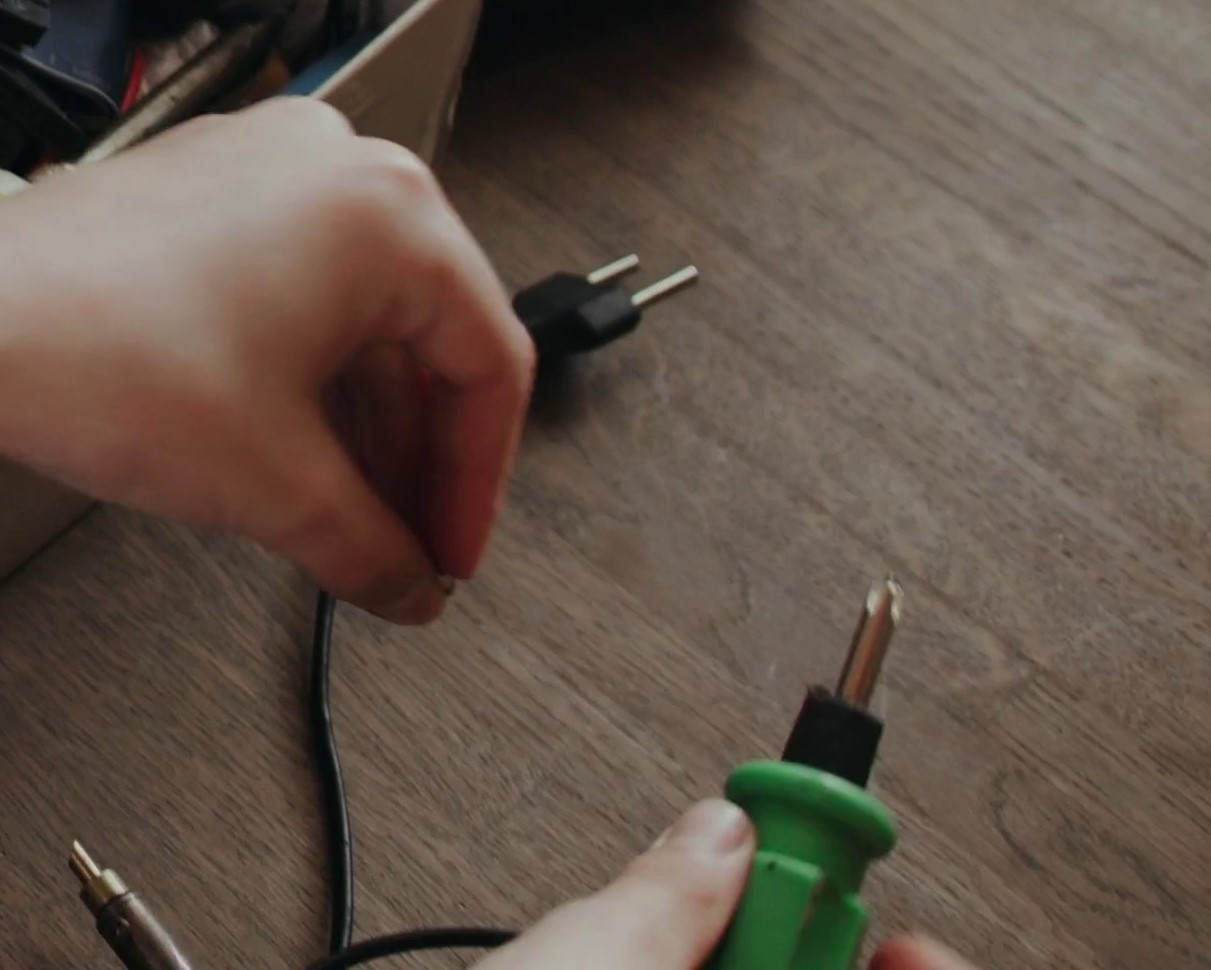screwdriver: (688, 567, 917, 970)
